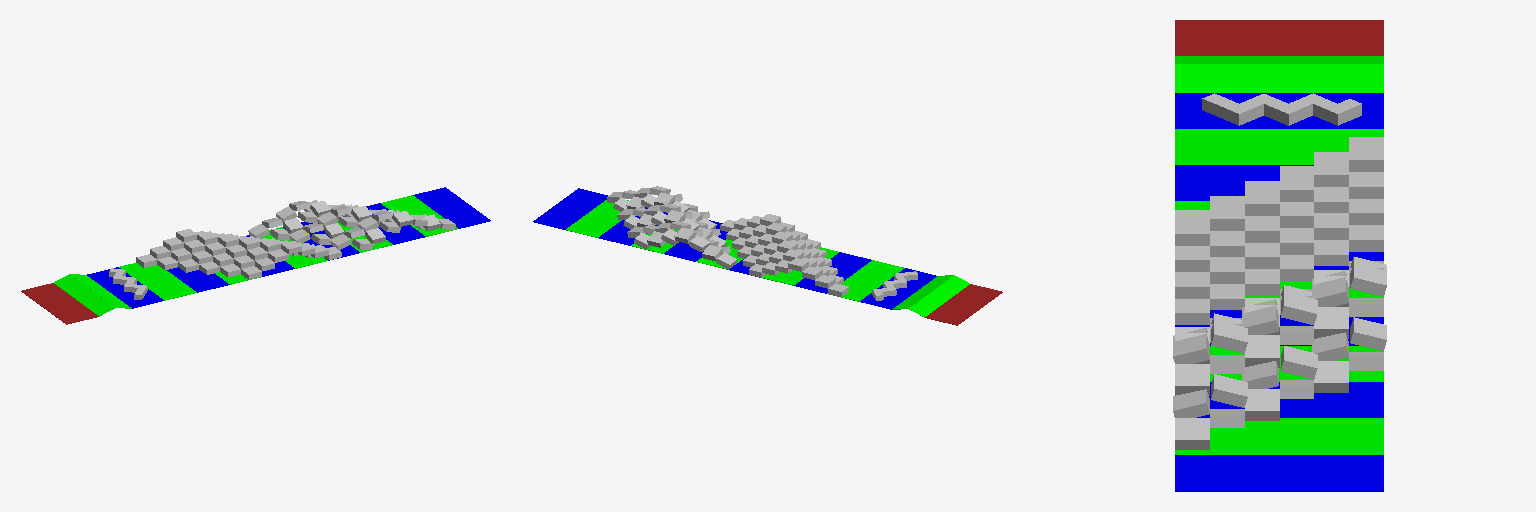
The robot description file, URDF, robot "drc_task2_env-robot":
<?xml version="1.0"?>
<robot name="drc_task2_env-robot"
       xmlns:xi="http://www.w3.org/2001/XInclude"
       xmlns:gazebo="http://playerstage.sourceforge.net/gazebo/xmlschema/#gz"
       xmlns:model="http://playerstage.sourceforge.net/gazebo/xmlschema/#model"
       xmlns:sensor="http://playerstage.sourceforge.net/gazebo/xmlschema/#sensor"
       xmlns:body="http://playerstage.sourceforge.net/gazebo/xmlschema/#body"
       xmlns:geom="http://playerstage.sourceforge.net/gazebo/xmlschema/#geom"
       xmlns:joint="http://playerstage.sourceforge.net/gazebo/xmlschema/#joint"
       xmlns:interface="http://playerstage.sourceforge.net/gazebo/xmlschema/#interface"
       xmlns:rendering="http://playerstage.sourceforge.net/gazebo/xmlschema/#rendering"
       xmlns:renderable="http://playerstage.sourceforge.net/gazebo/xmlschema/#renderable"
       xmlns:controller="http://playerstage.sourceforge.net/gazebo/xmlschema/#controller"
       xmlns:physics="http://playerstage.sourceforge.net/gazebo/xmlschema/#physics">
  <gazebo>
    <static>true</static>
  </gazebo>
  <link name="nil_link">
    <visual>
      <origin xyz="0 0 0" rpy="0 -0 0"/>
      <geometry>
        <mesh filename="model://drc_task2_env/meshes/nil_link_mesh.dae" scale="1 1 1" />
      </geometry>
    </visual>
    <collision>
      <origin xyz="0 0 0" rpy="0 -0 0"/>
      <geometry>
        <mesh filename="model://drc_task2_env/meshes/nil_link_mesh.dae" scale="1 1 1" />
      </geometry>
    </collision>
    <inertial>
      <mass value="0.001" />
      <origin xyz="0 0 0" rpy="0 -0 0"/>
      <inertia ixx="1e-03" ixy="0" ixz="0" iyy="1e-03" iyz="0" izz="1e-03"/>
    </inertial>
  </link>
  <gazebo reference="nil_link">
    <mu1>0.9</mu1>
    <mu2>0.9</mu2>
  </gazebo>
</robot>

--- Facts derived from the render (not from the file) ---
Views: 3 orthographic renders of the robot side by side, from view 1: azimuth 30°, elevation 25°; view 2: azimuth 150°, elevation 25°; view 3: azimuth 270°, elevation 25°.
Model drc_task2_env-robot with 1 links and 0 joints (none), rooted at nil_link, posed all joints at 0.
Links seen in each view (by area): view 1: nil_link; view 2: nil_link; view 3: nil_link.
Boxes of the visible links, <box> form: nil_link: <box>21,187,490,324</box>; nil_link: <box>533,186,1002,325</box>; nil_link: <box>1173,20,1386,491</box>.
Size in the robot's own frame: 13 by 2.5 by 0.725 metres.
Meshes: 1 distinct files referenced, 1 mesh visuals loaded (1 Collada DAE).